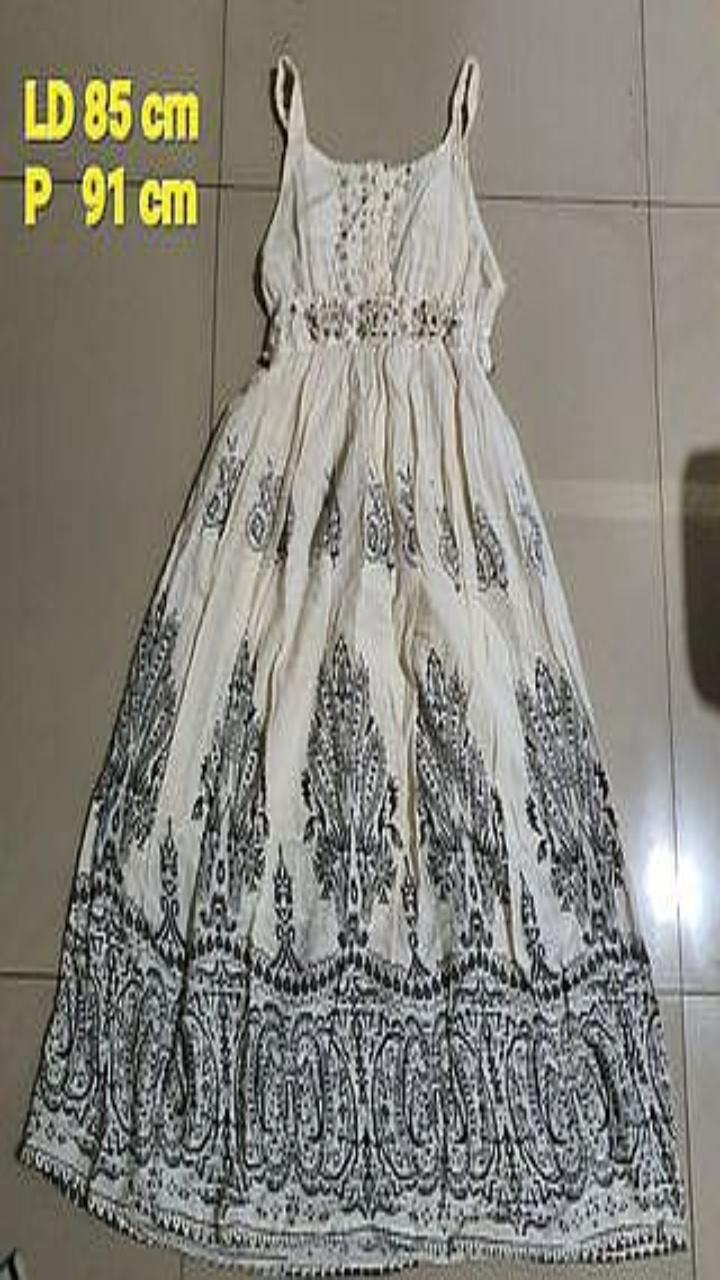Dresses: (18, 55, 686, 1274)
